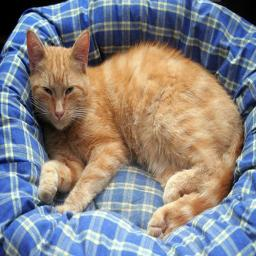catnose: (53, 108, 66, 124)
